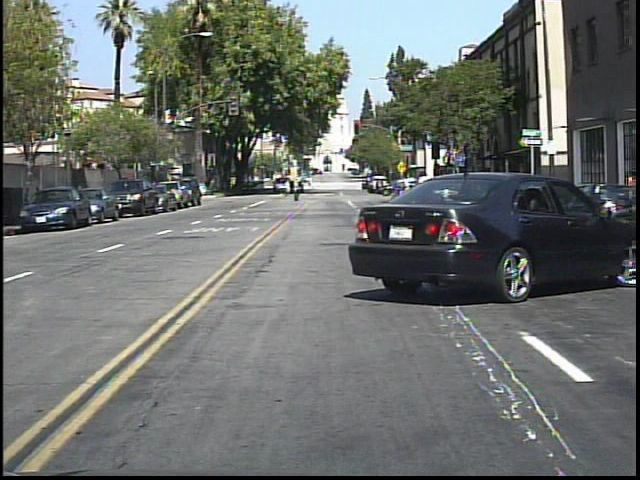person: (409, 160, 441, 243), (525, 169, 544, 221), (620, 165, 636, 215), (399, 172, 419, 208), (290, 174, 307, 206)
